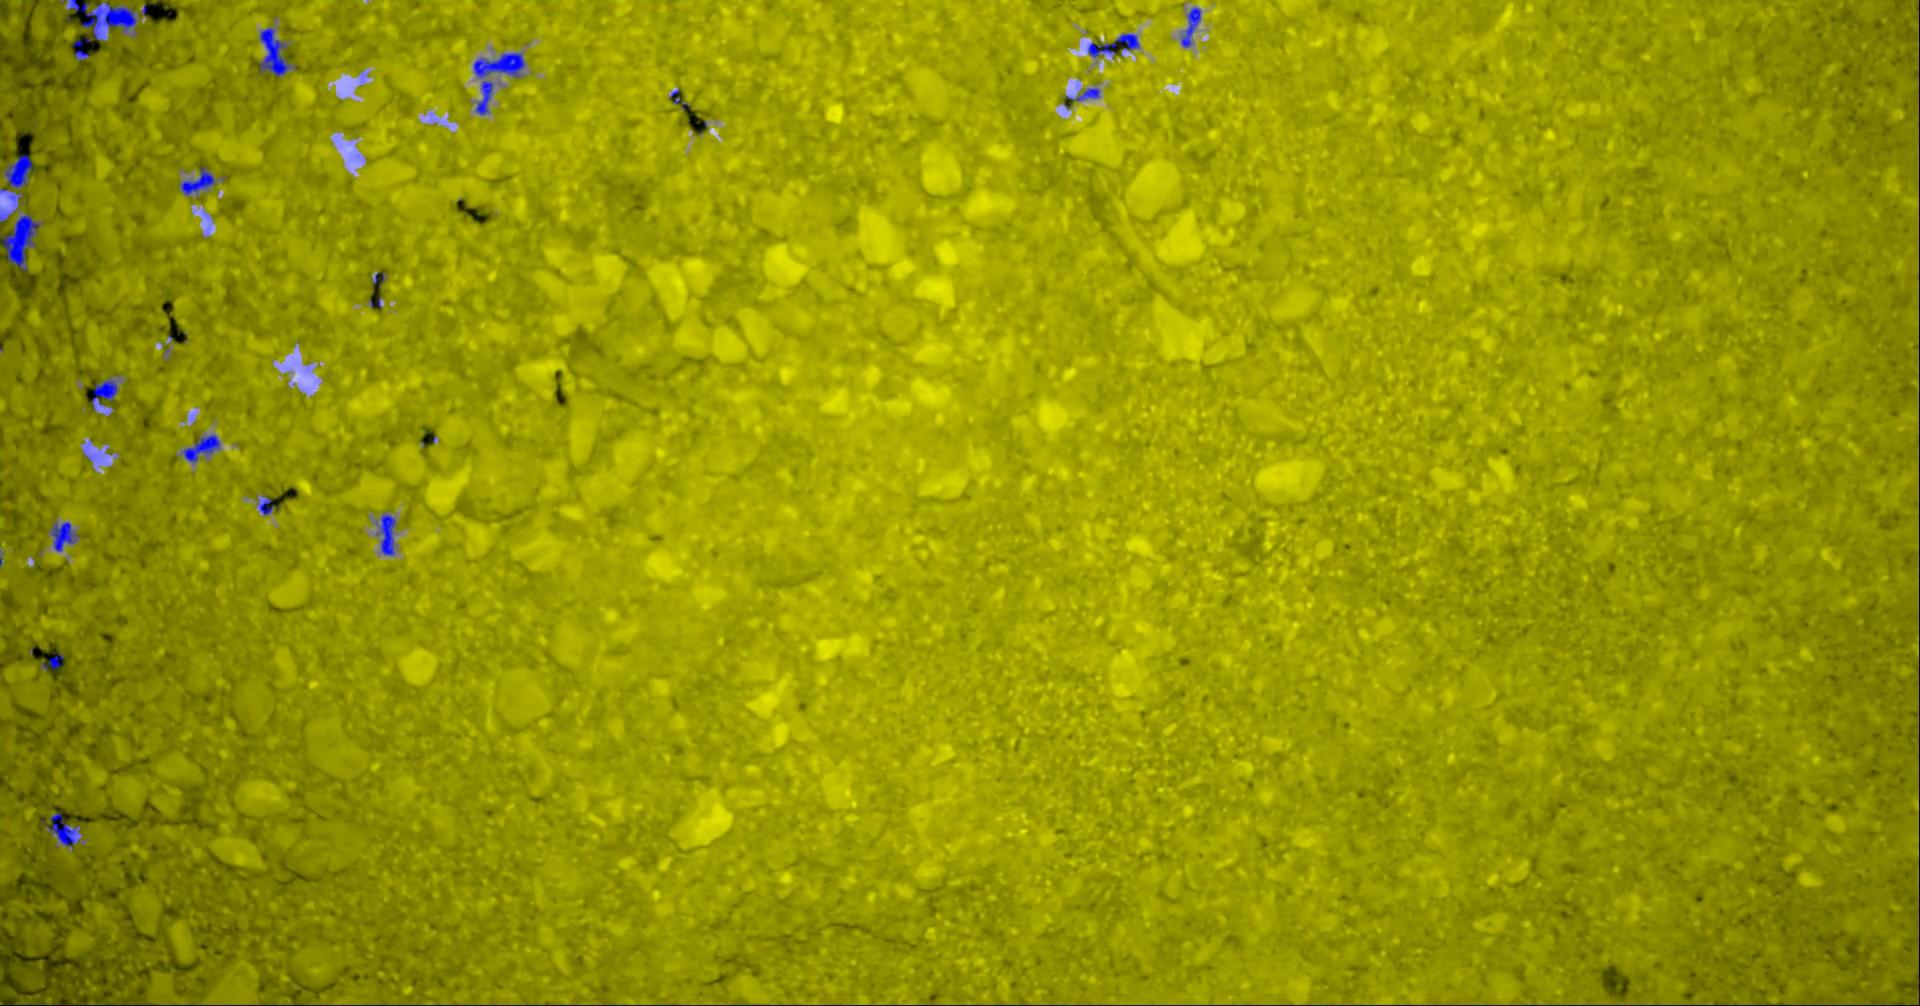ant: (0, 213, 39, 271), (259, 27, 295, 76), (0, 152, 32, 201), (1087, 33, 1138, 57), (47, 812, 79, 848), (180, 434, 218, 462), (180, 166, 216, 194), (375, 513, 395, 555), (50, 521, 76, 551), (1180, 8, 1200, 47), (91, 379, 117, 409), (1063, 86, 1098, 108), (669, 88, 690, 111), (72, 36, 89, 60), (41, 653, 63, 669), (257, 497, 273, 514)
